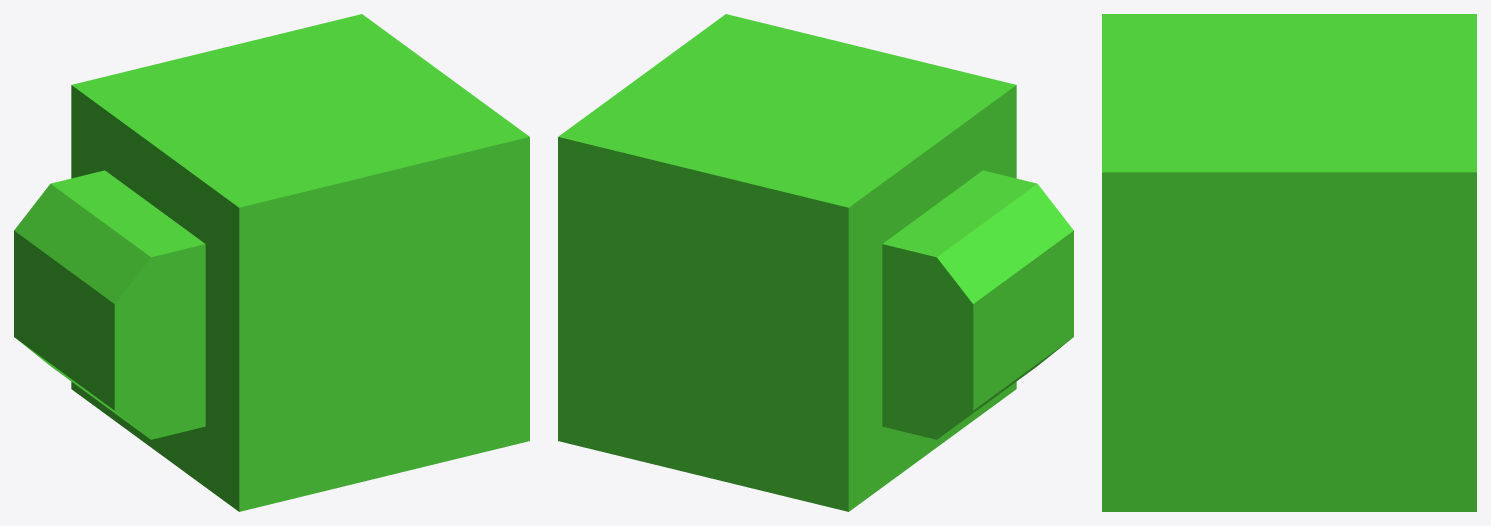
The model's file is Testing_Include_Camera.glb.
The picture shows the model from 3 angles, left to right: view 1: azimuth 30°, elevation 25°; view 2: azimuth 150°, elevation 25°; view 3: azimuth 270°, elevation 25°; orthographic projection. The views are drawn at different scales.
Visible parts, largest first — view 1: Body_Basic_Shape; view 2: Body_Basic_Shape; view 3: Body_Basic_Shape.
Boxes of the visible parts, left/top/right/bottom form: Body_Basic_Shape: left=14, top=14, right=529, bottom=511; Body_Basic_Shape: left=558, top=14, right=1073, bottom=511; Body_Basic_Shape: left=1102, top=14, right=1476, bottom=511.
Size of the model in its own units: 10.5 by 8 by 8.
